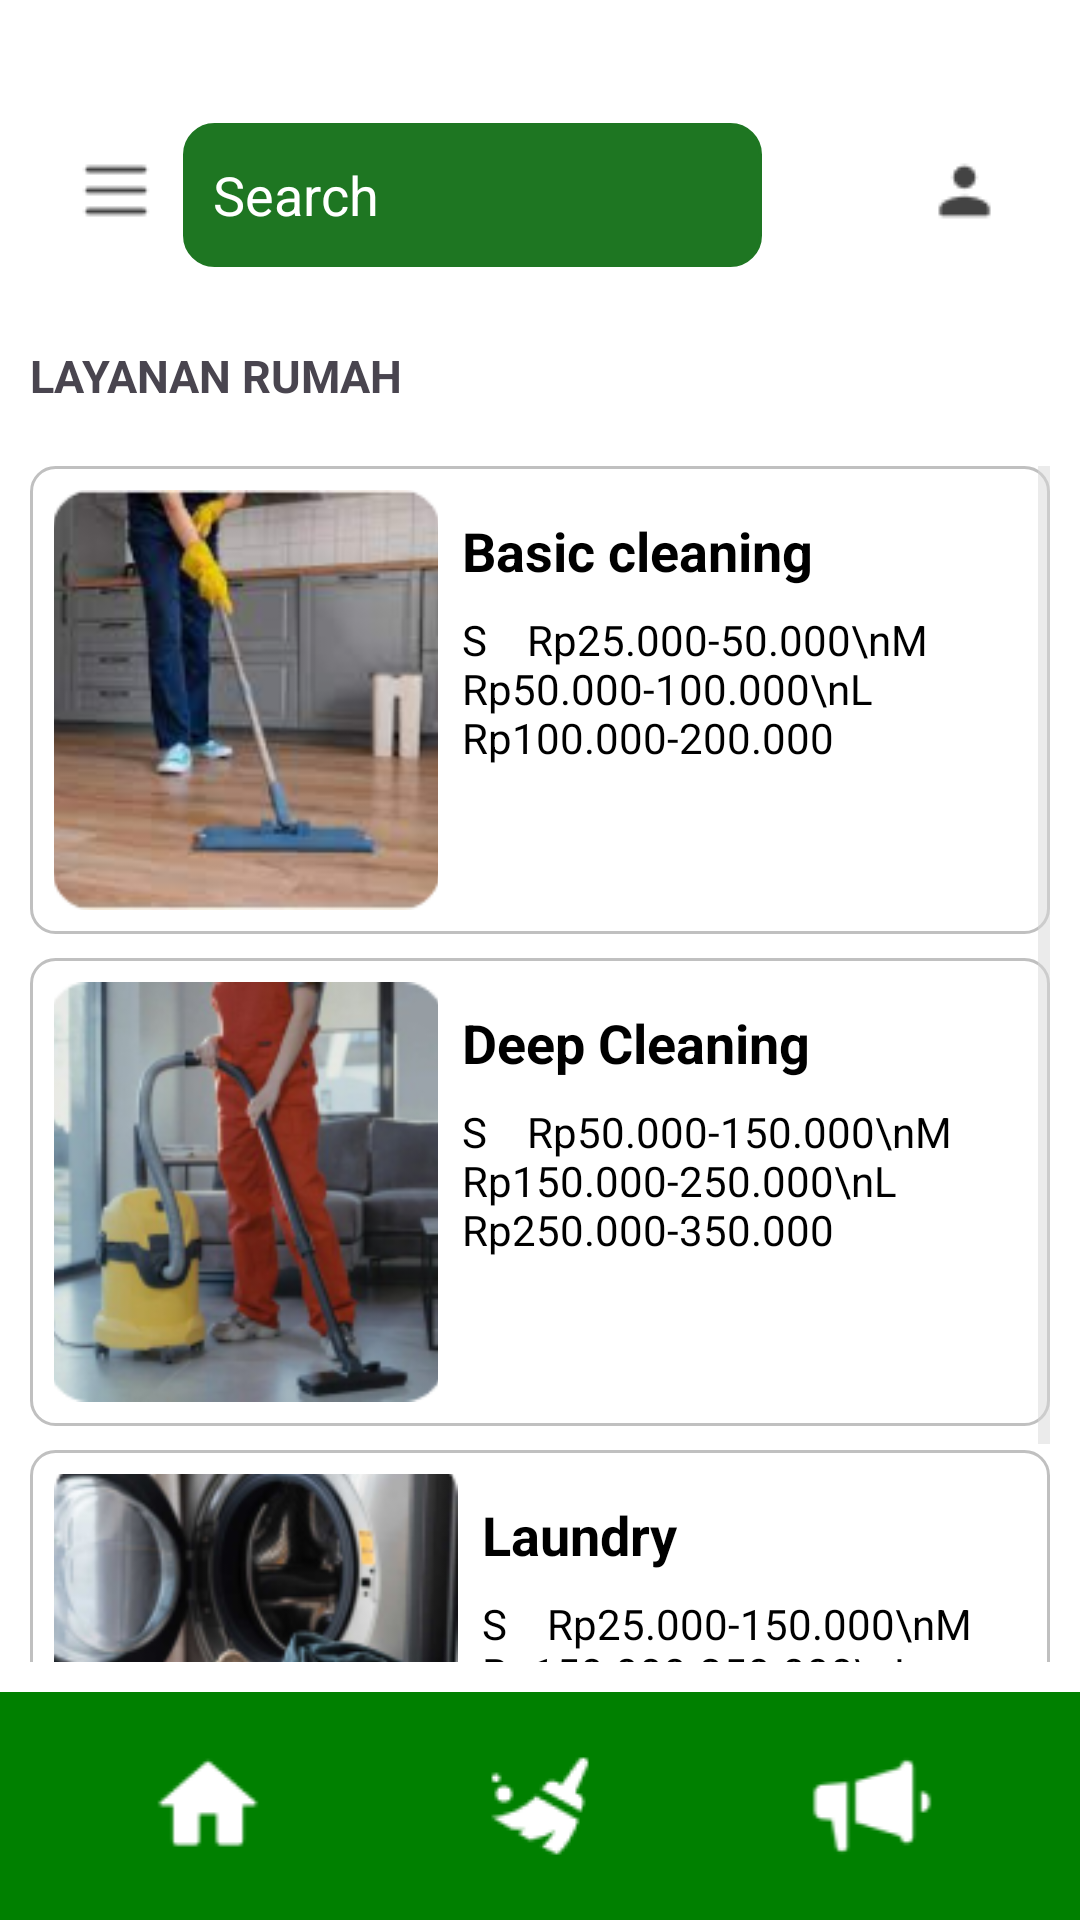

Where icons sit on this 1080 x 1920 app screen, as bbox(x1, y1, x2, y2):
commercialnotif: bbox(812, 1760, 932, 1852)
home: bbox(158, 1760, 258, 1847)
menu: bbox(85, 165, 147, 216)
profile: bbox(938, 164, 991, 218)
services: bbox(491, 1757, 589, 1855)
